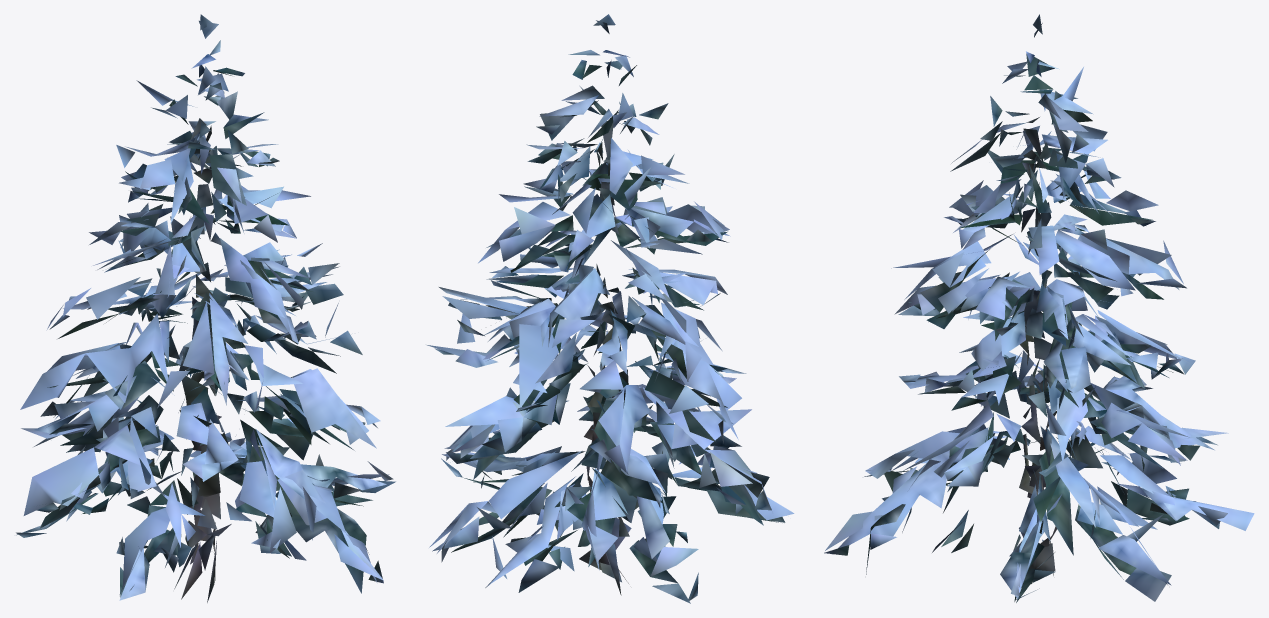
File: pinheiro_neve_lod2.glb
3 views of the same model, side by side, from view 1: azimuth 30°, elevation 25°; view 2: azimuth 150°, elevation 25°; view 3: azimuth 270°, elevation 25° (orthographic).
Visible parts, largest first — view 1: pinheiro_neve; view 2: pinheiro_neve; view 3: pinheiro_neve.
Boxes of the visible parts, bbox=[...] form: pinheiro_neve: bbox=[16, 14, 395, 602]; pinheiro_neve: bbox=[427, 14, 794, 603]; pinheiro_neve: bbox=[824, 14, 1254, 602].
Bounding box in the file's own units: 7.03 × 11 × 7.46.
Materials: 1 (1 with a texture image).
